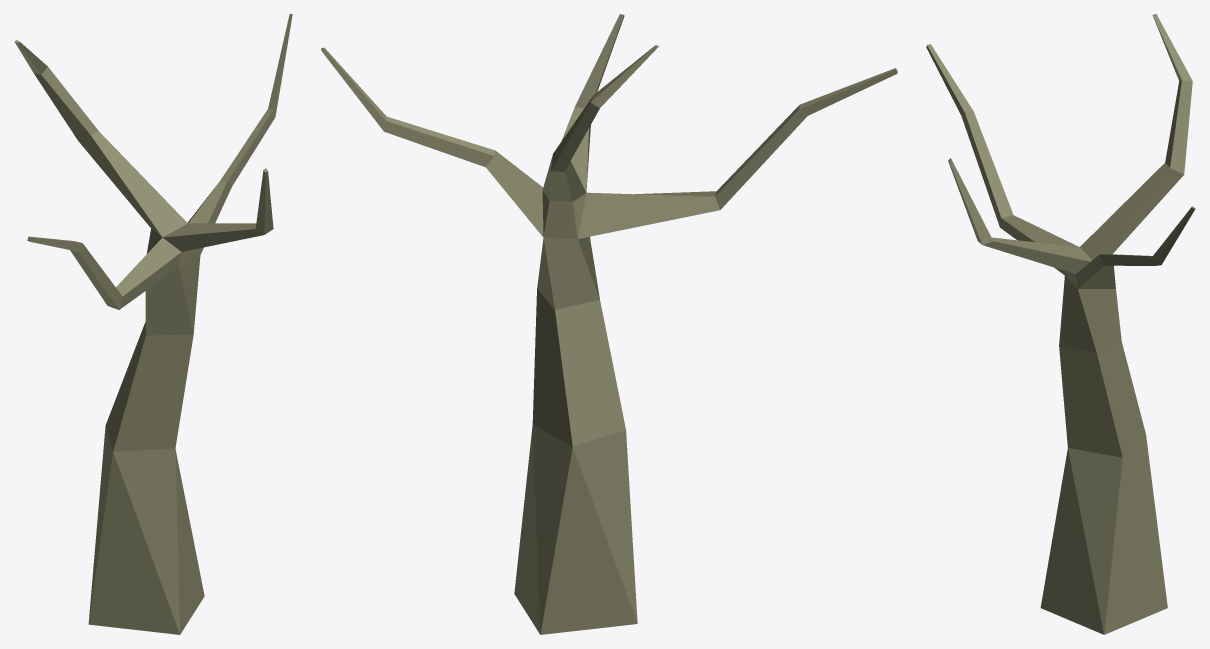
The model's file is Dead_Tree_m_BT_08.fbx.
3 renders of one model, left to right at view 1: azimuth 30°, elevation 25°; view 2: azimuth 150°, elevation 25°; view 3: azimuth 270°, elevation 25°, orthographic. The views are drawn at different scales.
Visible parts, largest first — view 1: Dead_Tree_m_BT_08; view 2: Dead_Tree_m_BT_08; view 3: Dead_Tree_m_BT_08.
Part boxes in pixels (x1,y1,x2,y2): Dead_Tree_m_BT_08: (14, 14, 292, 634); Dead_Tree_m_BT_08: (321, 14, 897, 634); Dead_Tree_m_BT_08: (926, 14, 1195, 634).
Size of the model in its own units: 341 by 464 by 207.
